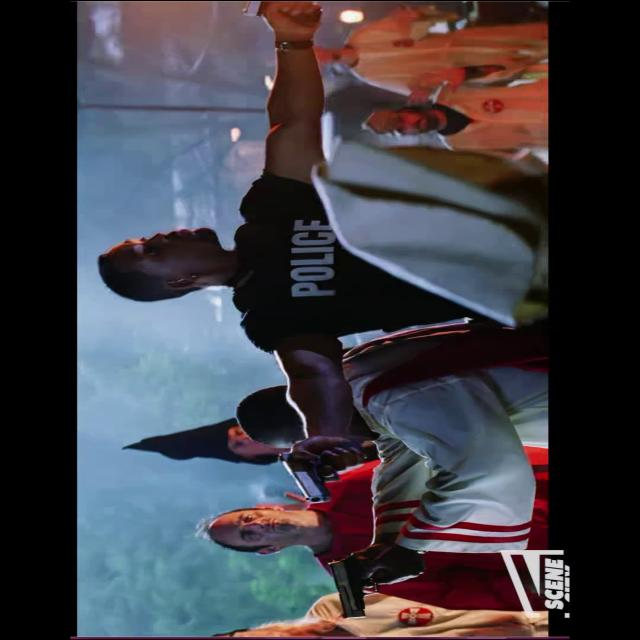weapons: (271, 432, 388, 508), (316, 544, 424, 618)
